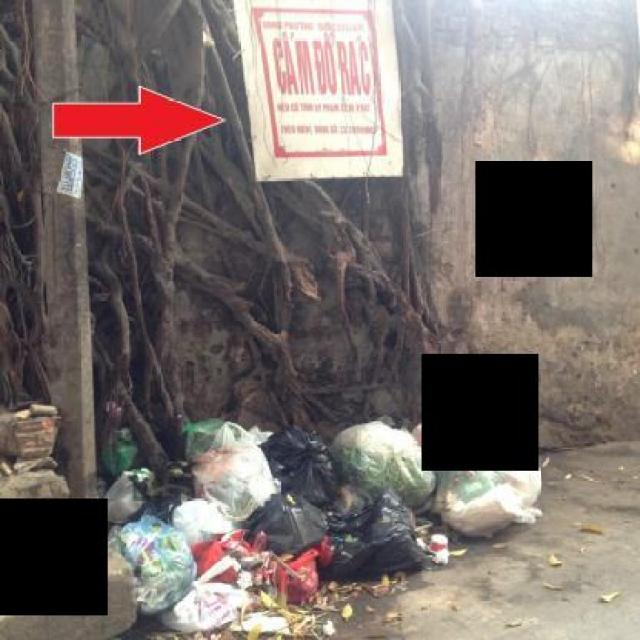plastic bag: (100, 428, 382, 632), (417, 420, 557, 537), (189, 412, 282, 520), (335, 417, 440, 509), (310, 486, 424, 569), (117, 512, 198, 620), (250, 478, 332, 577), (265, 424, 343, 522), (158, 577, 257, 631), (95, 460, 158, 531)
